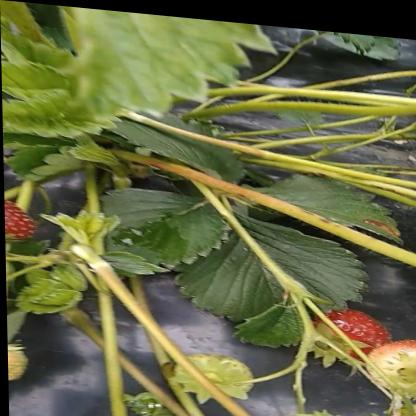ripe: (314, 299, 390, 344), (3, 197, 44, 247)
unripe: (170, 345, 261, 392), (364, 324, 416, 395), (280, 405, 345, 416)
